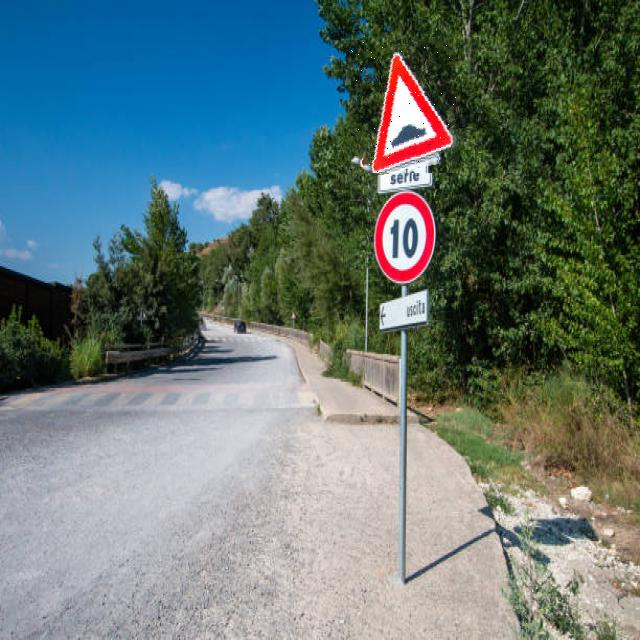hump: (351, 41, 460, 173)
